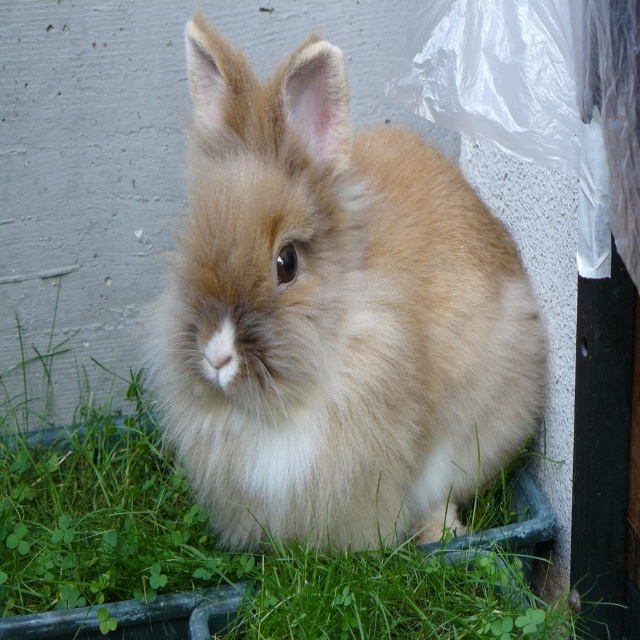Rabbit: (146, 12, 548, 562)
